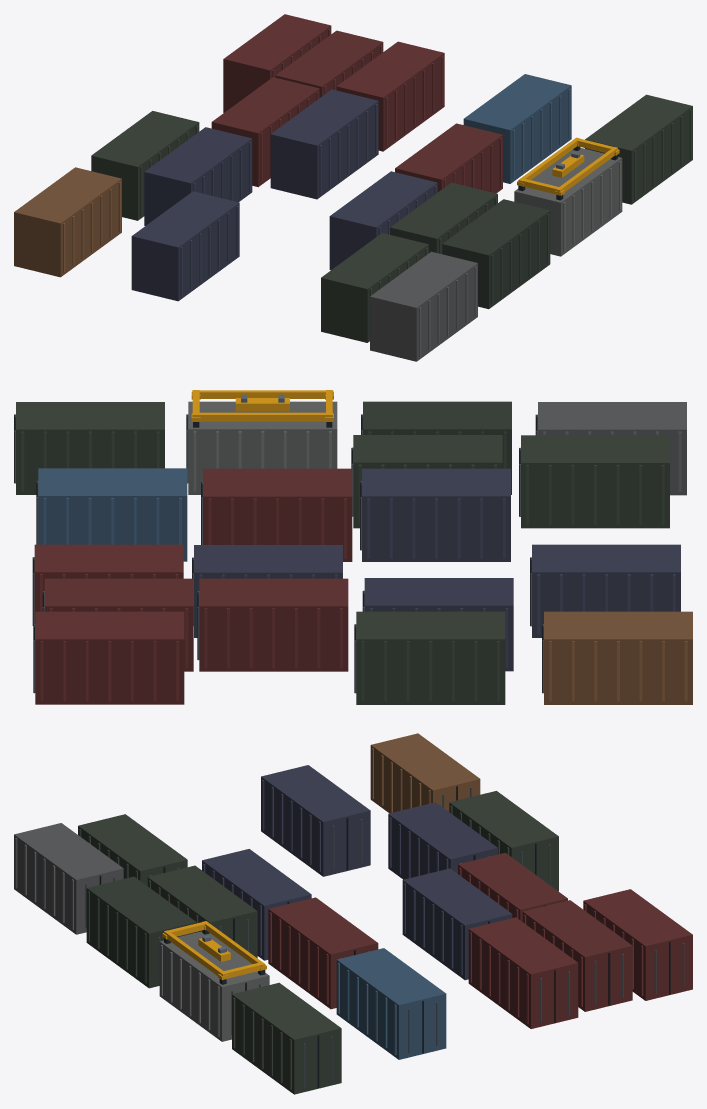
File: containers-ne-sw-06.glb
3 views of the same model, one above another, from view 1: azimuth 30°, elevation 25°; view 2: azimuth 150°, elevation 25°; view 3: azimuth 270°, elevation 25° (orthographic). The views are drawn at different scales.
Visible parts, largest first — view 1: containers-ne-sw-06; view 2: containers-ne-sw-06; view 3: containers-ne-sw-06.
Boxes of the visible parts, x1,y1,x2,y2 form: containers-ne-sw-06: [14, 14, 692, 361]; containers-ne-sw-06: [14, 390, 692, 704]; containers-ne-sw-06: [14, 733, 692, 1094].
Size of the model in its own units: 76.8 by 8.25 by 71.89.
